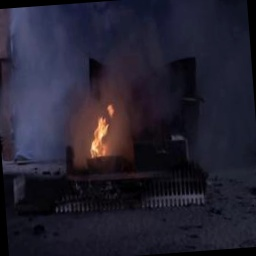fire: (80, 104, 122, 165)
smoke: (6, 0, 236, 110)
